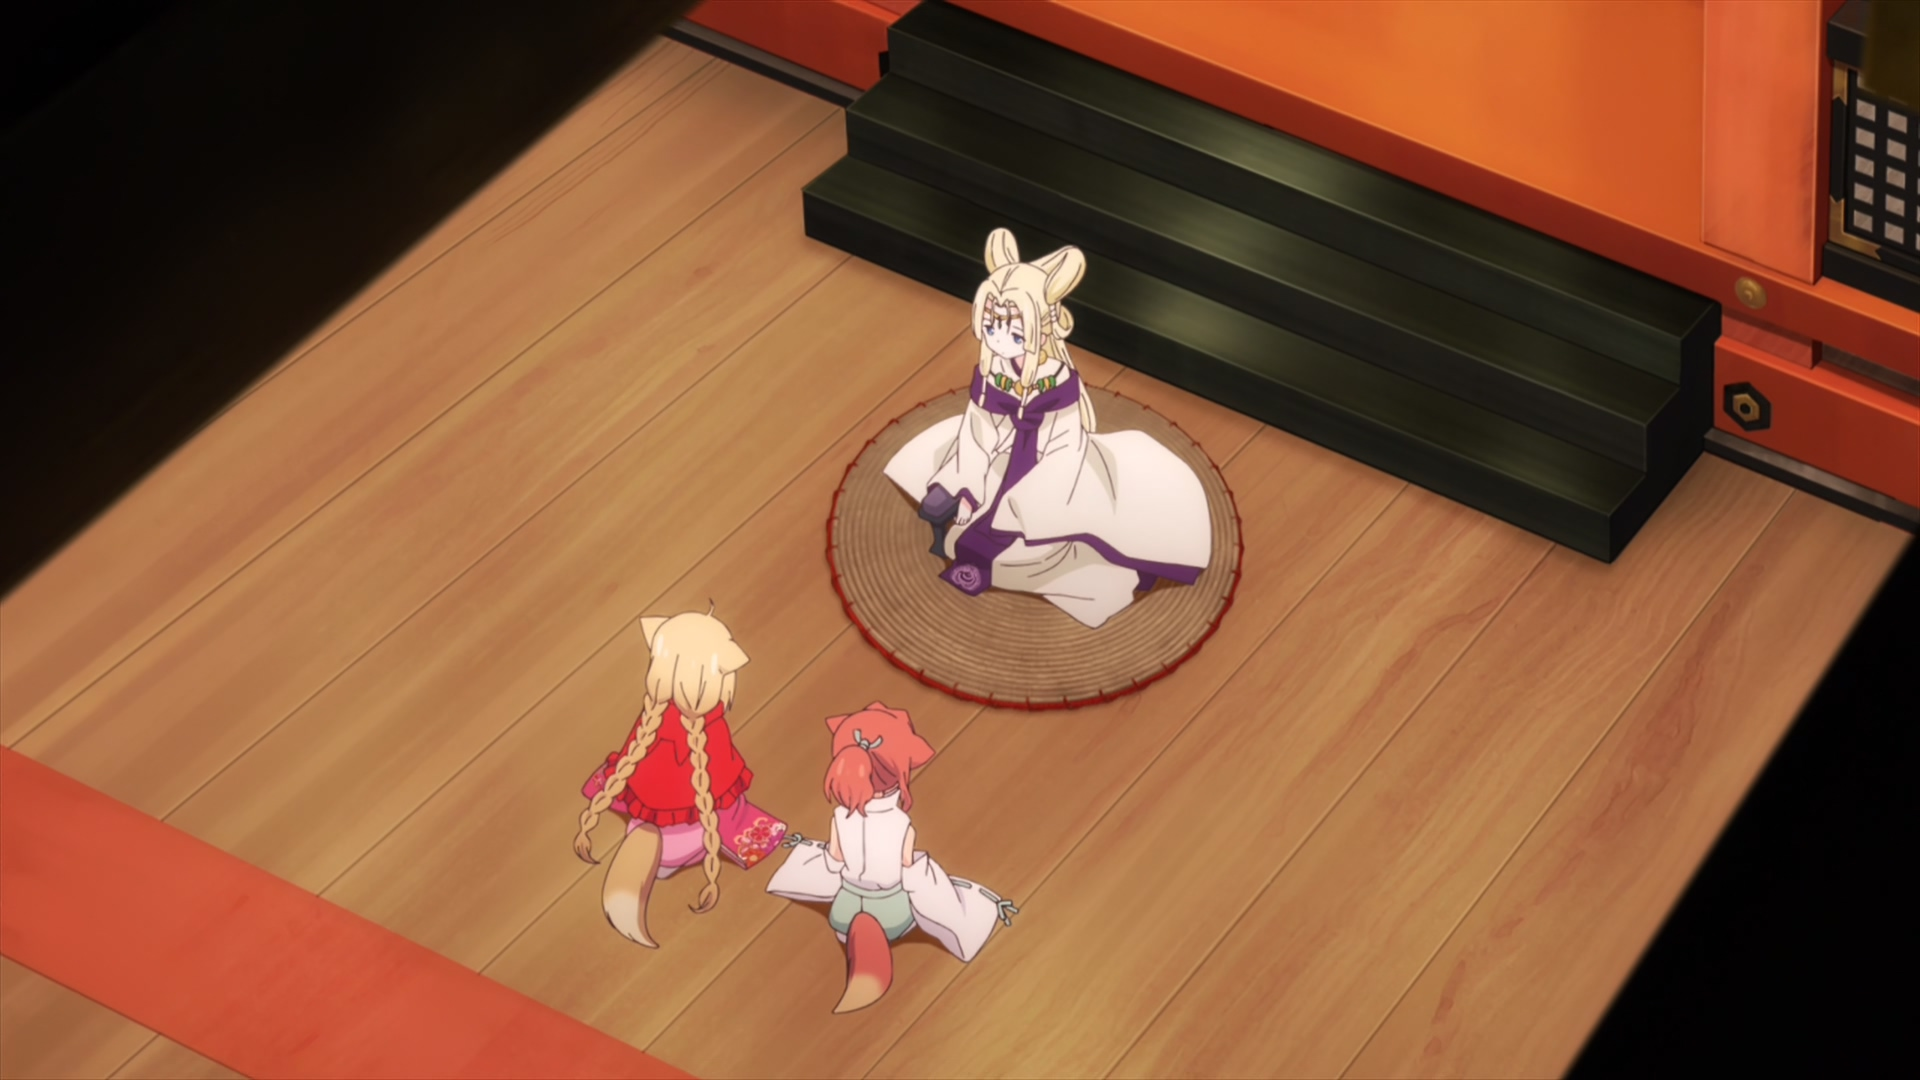其他: (881, 225, 1212, 626)
柚: (574, 597, 787, 949)
椿: (767, 698, 1019, 1017)
